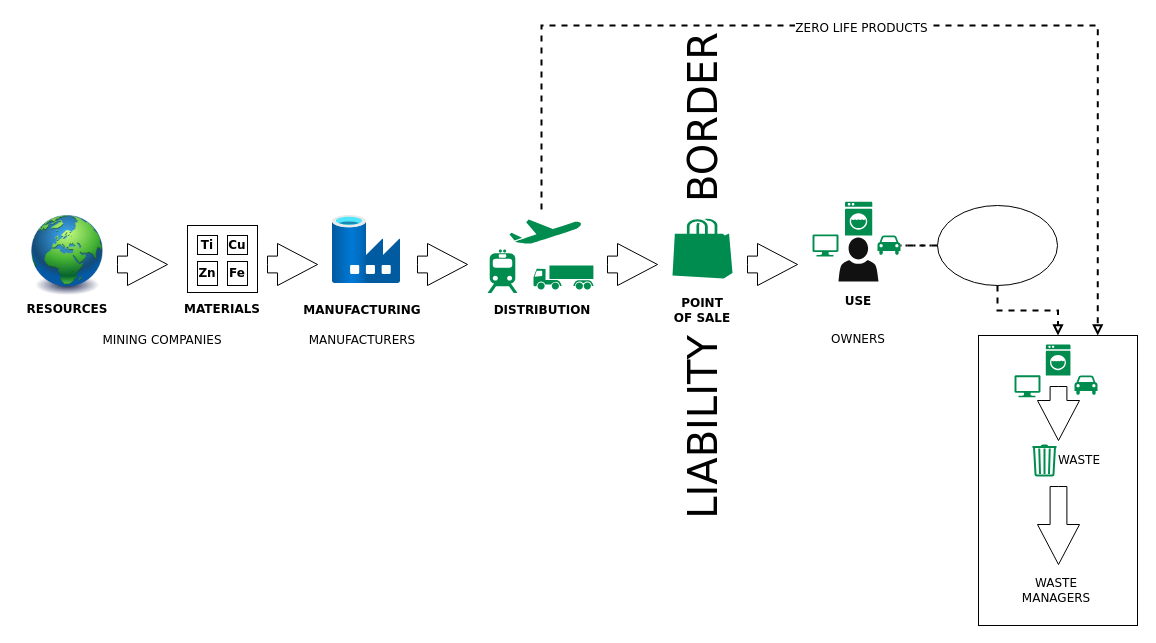
The diagram is 1156 pixels wide and 643 high, and some of its shapes have lost their labels. The shapes that lost their labels are listed below. From the top down, each one's box as (x1, y1, x2, y2) in pixels, then its label:
(936, 204, 1058, 286): Waste is someone else's problem 🤷
(1036, 486, 1080, 564): STATE
